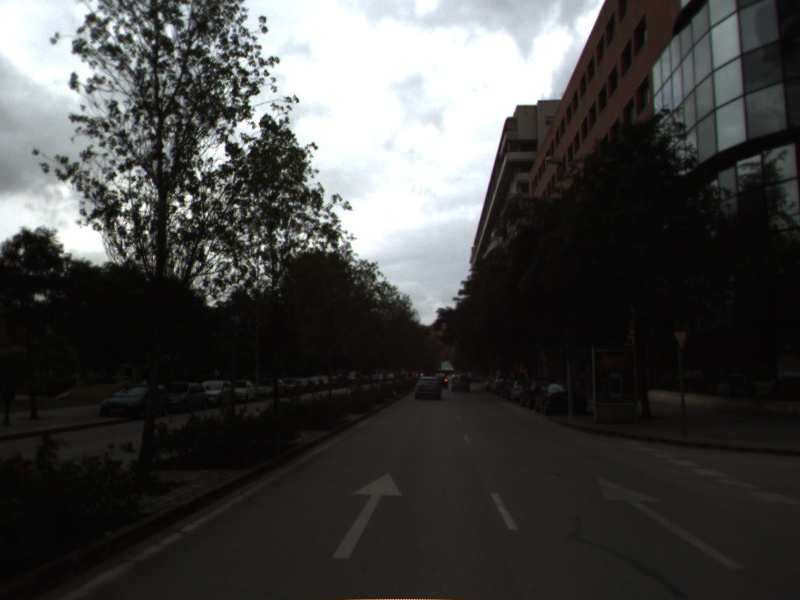STRAIGHT: (595, 474, 750, 574), (330, 469, 405, 561)
